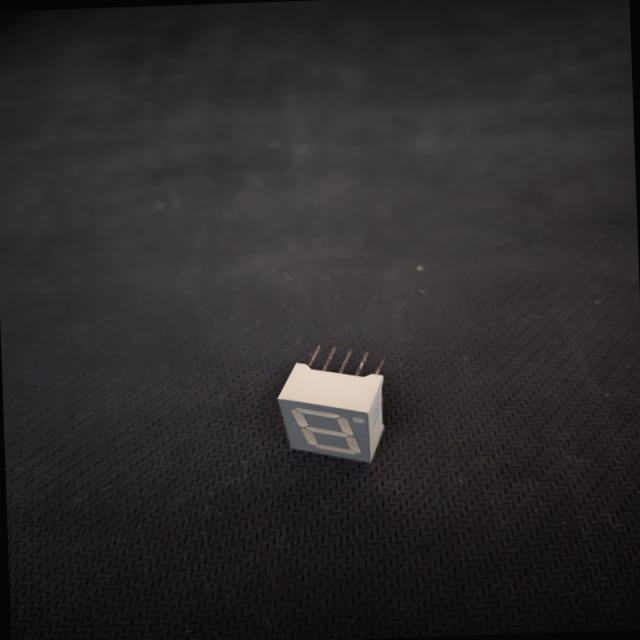sevensegment: (274, 337, 398, 472)
